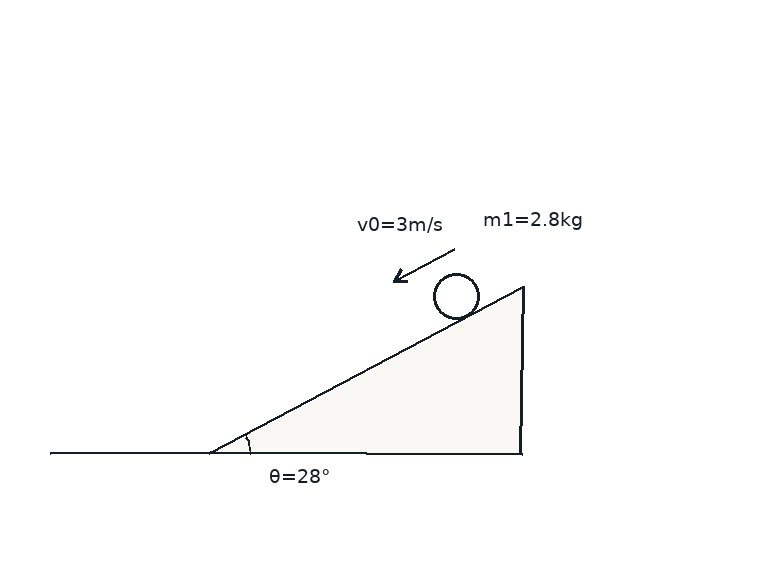ball: (431, 271, 481, 321)
ramp: (208, 285, 524, 455)
